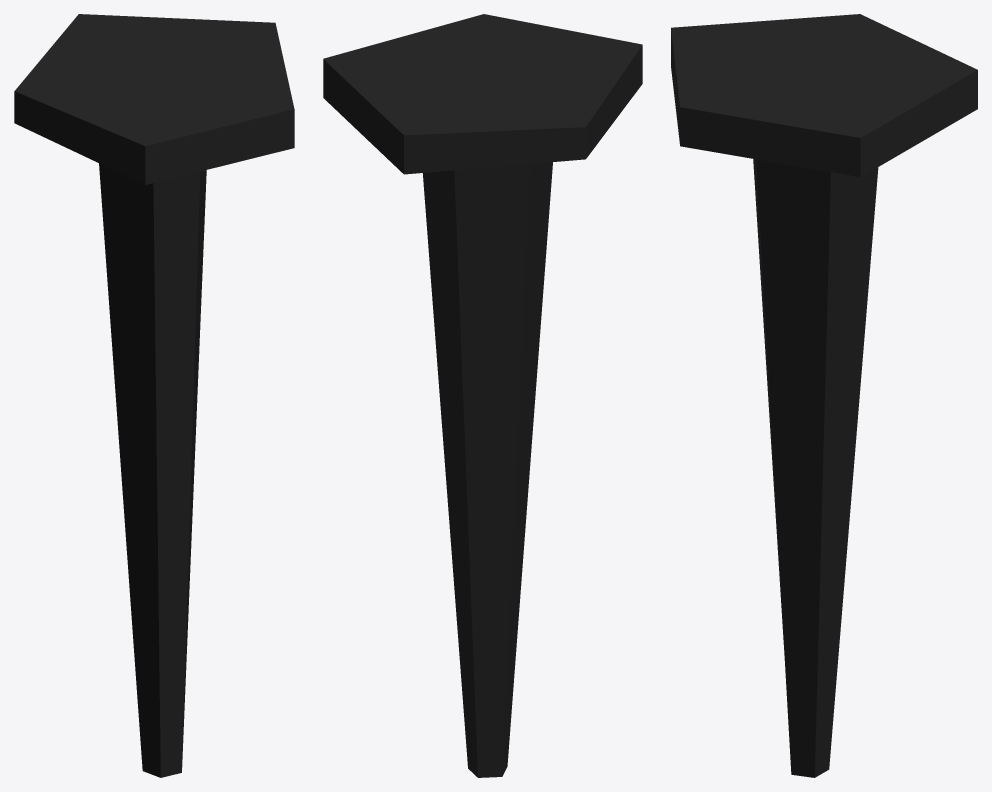
File: nail02.obj
3 renders of one model, left to right at view 1: azimuth 30°, elevation 25°; view 2: azimuth 150°, elevation 25°; view 3: azimuth 270°, elevation 25°, orthographic.
Parts seen in each view (by area): view 1: Cube_Cube.001; view 2: Cube_Cube.001; view 3: Cube_Cube.001.
Part boxes in pixels (x1,y1,x2,y2): Cube_Cube.001: (14, 14, 294, 777); Cube_Cube.001: (323, 14, 642, 777); Cube_Cube.001: (671, 14, 977, 777).
Size of the model in its own units: 0.0243 by 0.0615 by 0.0245.
